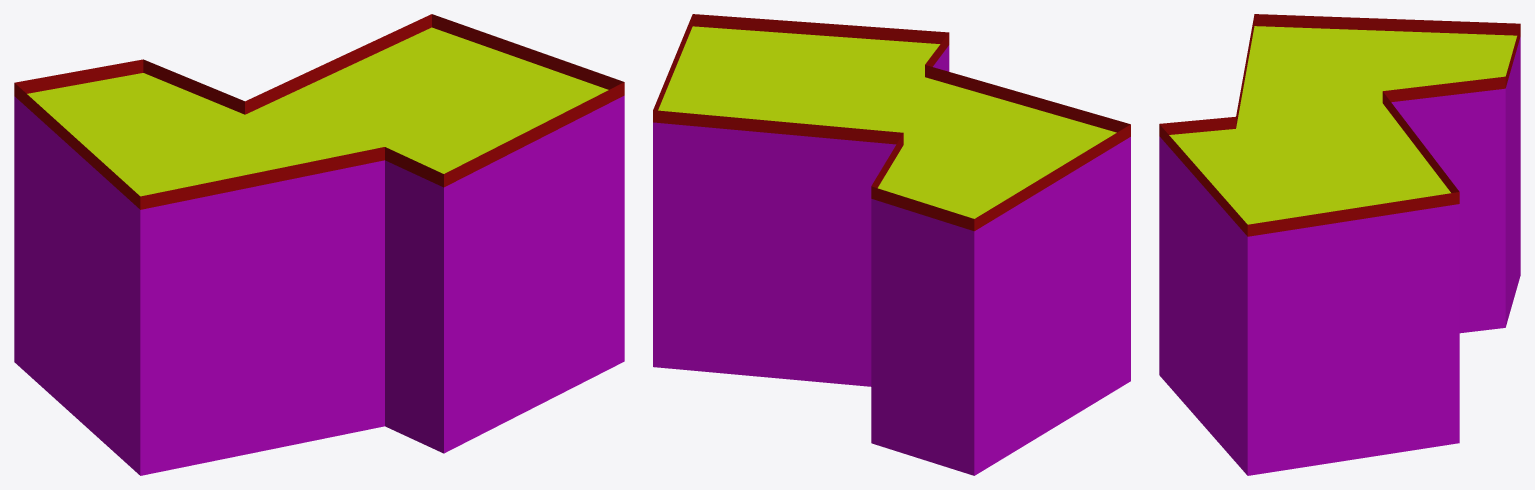
Rendered from bgj_271.glb.
3 views of the same model, side by side, from view 1: azimuth 30°, elevation 25°; view 2: azimuth 150°, elevation 25°; view 3: azimuth 270°, elevation 25° (orthographic). The views are drawn at different scales.
Parts seen in each view (by area): view 1: bgj_271; view 2: bgj_271; view 3: bgj_271.
Part boxes in pixels (bbox=[...]): bgj_271: bbox=[14, 14, 624, 475]; bgj_271: bbox=[653, 14, 1130, 475]; bgj_271: bbox=[1159, 14, 1520, 475].
Size of the model in its own units: 13.09 by 7.28 by 9.49.
